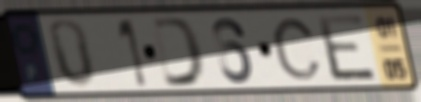0: (47, 17, 98, 92)
1: (116, 16, 150, 89)
6: (211, 15, 255, 85)
C: (270, 16, 324, 82)
D: (149, 15, 208, 90)
E: (313, 11, 381, 83)
